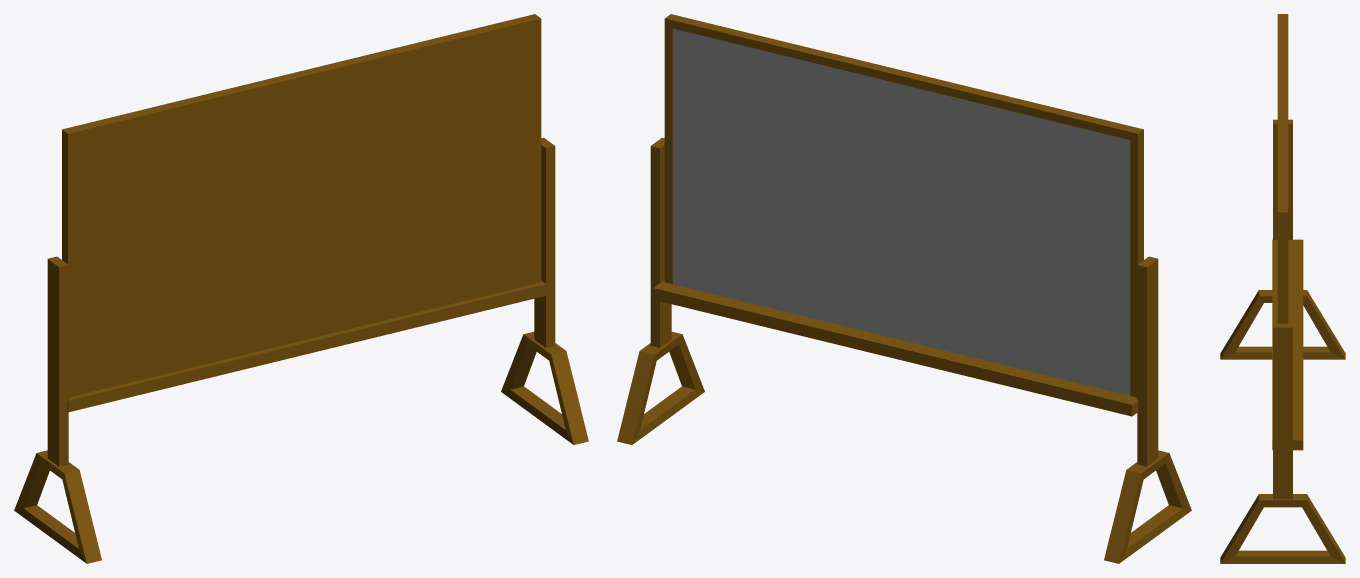
The model's file is bangday.fbx.
3 renders of one model, left to right at view 1: azimuth 30°, elevation 25°; view 2: azimuth 150°, elevation 25°; view 3: azimuth 270°, elevation 25°, orthographic. The views are drawn at different scales.
Parts seen in each view (by area): view 1: bangday; view 2: bangday; view 3: bangday.
Part boxes in pixels (left/top/right/bottom): bangday: left=14, top=14, right=588, bottom=563; bangday: left=617, top=14, right=1191, bottom=563; bangday: left=1220, top=14, right=1345, bottom=563.
Bounding box in the file's own units: 523 × 401 × 132.
